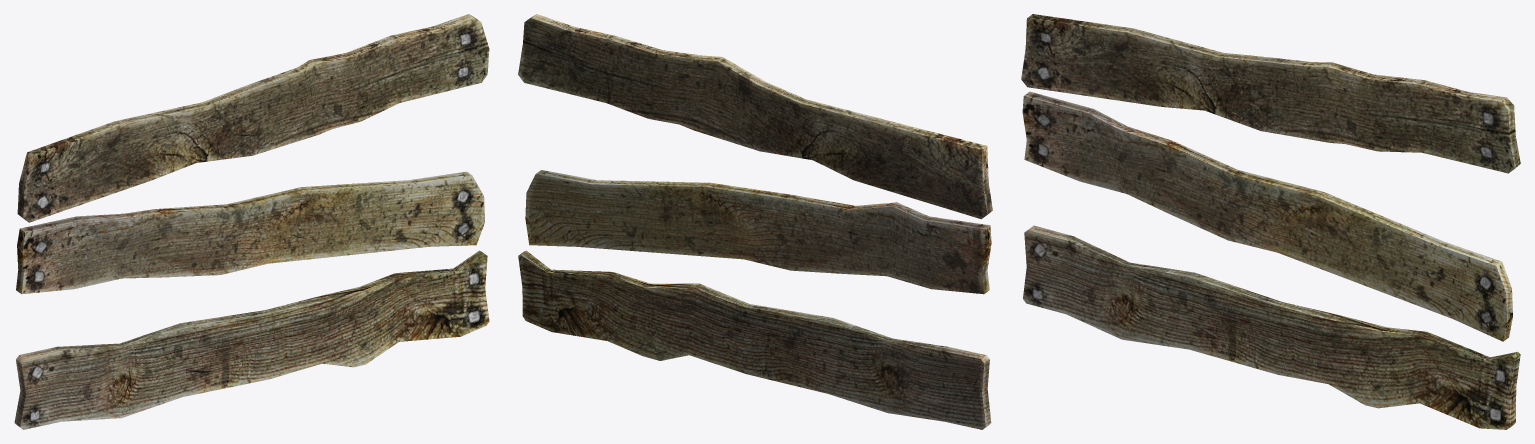
File: wooden_boards_block_broken.dae
The picture shows the model from 3 angles, left to right: view 1: azimuth 30°, elevation 25°; view 2: azimuth 150°, elevation 25°; view 3: azimuth 330°, elevation 25°; orthographic projection. The views are drawn at different scales.
Visible parts, largest first — view 1: wooden_boards_block_broken_piece06, wooden_boards_block_broken_piece03, wooden_boards_block_broken_piece02, wooden_boards_block_broken_piece01, wooden_boards_block_broken_piece05, wooden_boards_block_broken_piece04; view 2: wooden_boards_block_broken_piece06, wooden_boards_block_broken_piece03, wooden_boards_block_broken_piece02, wooden_boards_block_broken_piece01, wooden_boards_block_broken_piece05, wooden_boards_block_broken_piece04; view 3: wooden_boards_block_broken_piece06, wooden_boards_block_broken_piece03, wooden_boards_block_broken_piece02, wooden_boards_block_broken_piece01, wooden_boards_block_broken_piece04, wooden_boards_block_broken_piece05.
Part boxes in pixels (x1,y1,x2,y2): wooden_boards_block_broken_piece06: (183,250,489,392); wooden_boards_block_broken_piece03: (16,187,330,294); wooden_boards_block_broken_piece02: (225,14,489,159); wooden_boards_block_broken_piece01: (17,84,262,222); wooden_boards_block_broken_piece05: (14,321,220,429); wooden_boards_block_broken_piece04: (274,171,484,259); wooden_boards_block_broken_piece06: (518,250,827,389); wooden_boards_block_broken_piece03: (679,182,991,294); wooden_boards_block_broken_piece02: (518,14,785,155); wooden_boards_block_broken_piece01: (749,82,992,219); wooden_boards_block_broken_piece05: (792,315,991,429); wooden_boards_block_broken_piece04: (525,170,736,256); wooden_boards_block_broken_piece06: (1189,278,1520,429); wooden_boards_block_broken_piece03: (1022,91,1344,268); wooden_boards_block_broken_piece02: (1232,57,1520,173); wooden_boards_block_broken_piece01: (1021,14,1271,120); wooden_boards_block_broken_piece04: (1285,192,1512,341); wooden_boards_block_broken_piece05: (1023,225,1226,354).
Size of the model in its own units: 2.39 by 1.54 by 0.1311.
